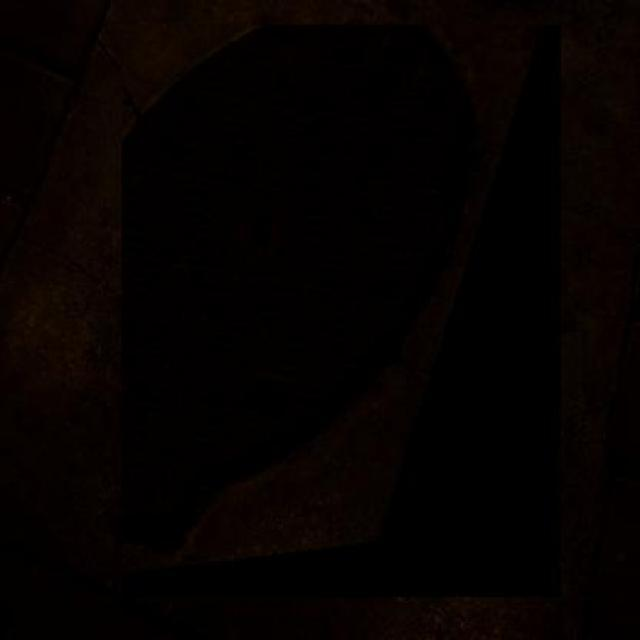Manhole: (122, 25, 560, 598)
